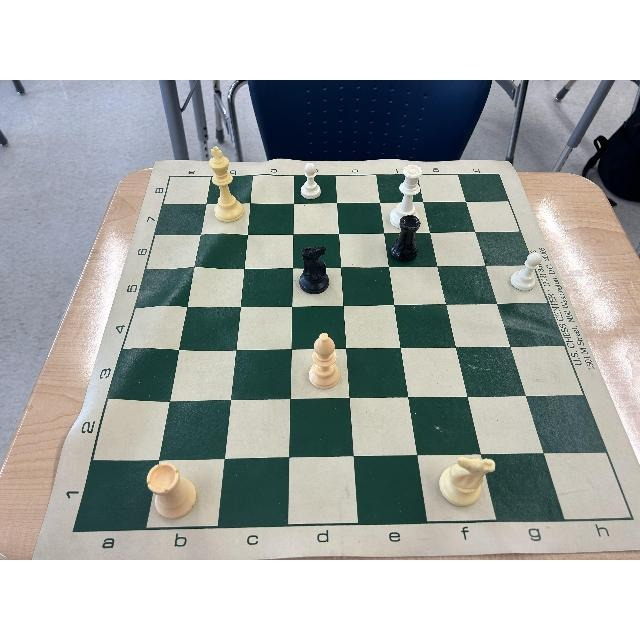black-knight: (299, 245, 330, 295)
black-rook: (388, 213, 420, 262)
white-bishop: (308, 334, 342, 390)
white-king: (207, 144, 245, 223)
white-knight: (440, 456, 496, 508)
white-pawn: (509, 251, 542, 293), (298, 162, 323, 200)
white-queen: (388, 164, 422, 230)
white-rook: (145, 463, 198, 521)
